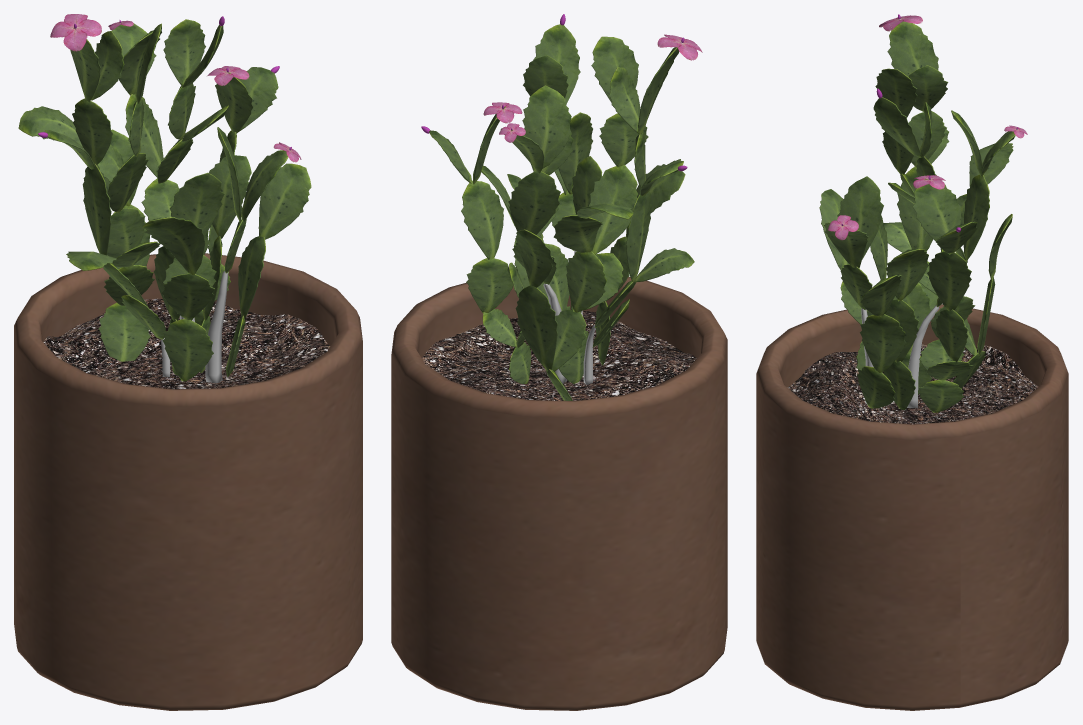
Rendered from christmas cactus.fbx.
3 views of the same model, side by side, from view 1: azimuth 30°, elevation 25°; view 2: azimuth 150°, elevation 25°; view 3: azimuth 270°, elevation 25° (orthographic). The views are drawn at different scales.
Visible parts, largest first — view 1: pot, dirt, polySurface3, polySurface16, polySurface19, leaf_thick30, polySurface4, leaf_thick41, leaf_thick34, leaf_thick35, polySurface17, leaf_thick14 (+30 smaller); view 2: pot, dirt, leaf_thick18, polySurface13, polySurface8, polySurface9, polySurface11, leaf_thick17, polySurface7, polySurface21, polySurface25, polySurface20 (+20 smaller); view 3: pot, dirt, leaf_thick18, leaf_thick17, leaf_thick26, leaf_thick10, leaf_thick36, polySurface2, leaf_thick31, polySurface11, leaf_thick14, polySurface25 (+18 smaller).
Boxes of the visible parts, x1,y1,x2,y2 form: pot: (14,253,362,710); dirt: (43,298,330,389); polySurface3: (258,163,311,239); polySurface16: (162,318,213,381); polySurface19: (169,172,224,236); leaf_thick30: (142,217,205,274); polySurface4: (98,302,150,361); leaf_thick41: (163,19,205,86); leaf_thick34: (82,163,111,255); leaf_thick35: (72,98,113,165); polySurface17: (161,273,214,319); leaf_thick14: (209,155,251,238); pot: (391,277,727,710); dirt: (422,311,696,400); leaf_thick18: (461,180,512,312); polySurface13: (522,85,571,170); polySurface8: (588,164,637,254); polySurface9: (515,285,557,371); polySurface11: (508,170,560,234); leaf_thick17: (482,262,531,383); polySurface7: (566,251,606,312); polySurface21: (591,36,638,102); polySurface25: (533,24,580,104); polySurface20: (599,113,648,166); pot: (756,304,1068,710); dirt: (788,344,1038,424); leaf_thick18: (927,251,971,362); leaf_thick17: (918,296,975,412); leaf_thick26: (912,178,961,243); leaf_thick10: (883,299,918,410); leaf_thick36: (887,21,938,77); polySurface2: (860,314,906,372); leaf_thick31: (837,176,883,259); polySurface11: (963,174,989,261); leaf_thick14: (885,248,928,301); polySurface25: (873,97,921,157).
Bounding box in the file's own units: 20 × 41.02 × 20.
